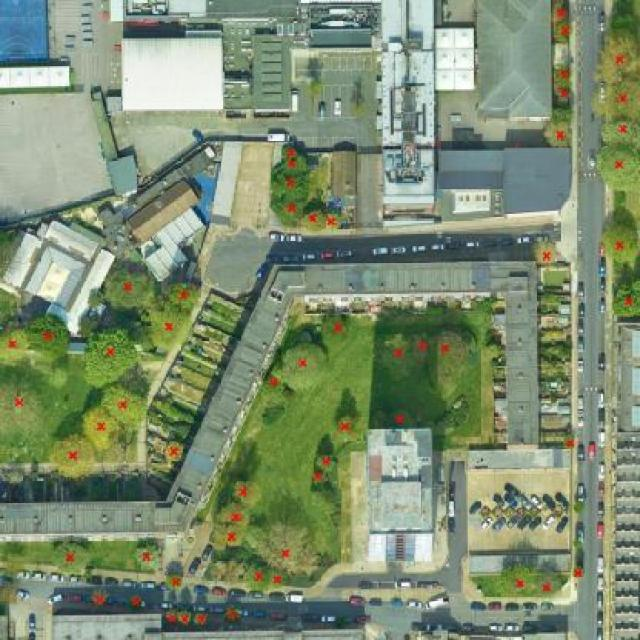tree: (249, 520, 320, 577), (85, 328, 141, 389), (426, 331, 468, 394), (594, 30, 640, 81), (279, 343, 327, 391), (1, 375, 41, 430), (105, 268, 157, 309), (51, 432, 94, 478), (591, 78, 640, 118), (103, 385, 146, 430), (25, 317, 69, 358), (598, 146, 640, 188), (151, 306, 192, 345), (85, 404, 118, 451), (600, 117, 640, 151), (602, 225, 638, 262), (382, 334, 412, 377), (497, 565, 537, 597), (612, 278, 640, 317), (53, 543, 90, 571), (270, 195, 302, 227), (0, 329, 28, 365), (272, 173, 310, 199), (212, 522, 246, 548), (230, 479, 262, 506), (216, 503, 252, 526), (323, 311, 348, 344), (170, 282, 201, 308), (544, 119, 570, 147), (536, 570, 561, 598), (271, 157, 309, 175), (336, 417, 364, 441), (244, 563, 268, 591), (261, 376, 285, 402), (410, 333, 430, 361), (301, 211, 325, 231), (136, 547, 158, 568), (535, 242, 556, 264), (391, 410, 411, 430), (315, 453, 336, 472), (555, 21, 573, 41), (554, 64, 572, 84), (87, 288, 104, 307), (556, 85, 572, 104), (167, 442, 182, 462), (552, 109, 573, 122), (311, 468, 326, 486), (325, 212, 340, 230), (92, 588, 105, 608), (268, 573, 282, 590), (281, 145, 299, 158), (167, 574, 182, 589), (178, 610, 192, 625), (129, 593, 142, 609), (554, 6, 568, 20), (191, 614, 207, 626), (562, 436, 575, 450), (226, 605, 237, 621), (165, 610, 177, 622), (572, 566, 583, 579), (574, 499, 584, 513), (572, 541, 582, 548)
